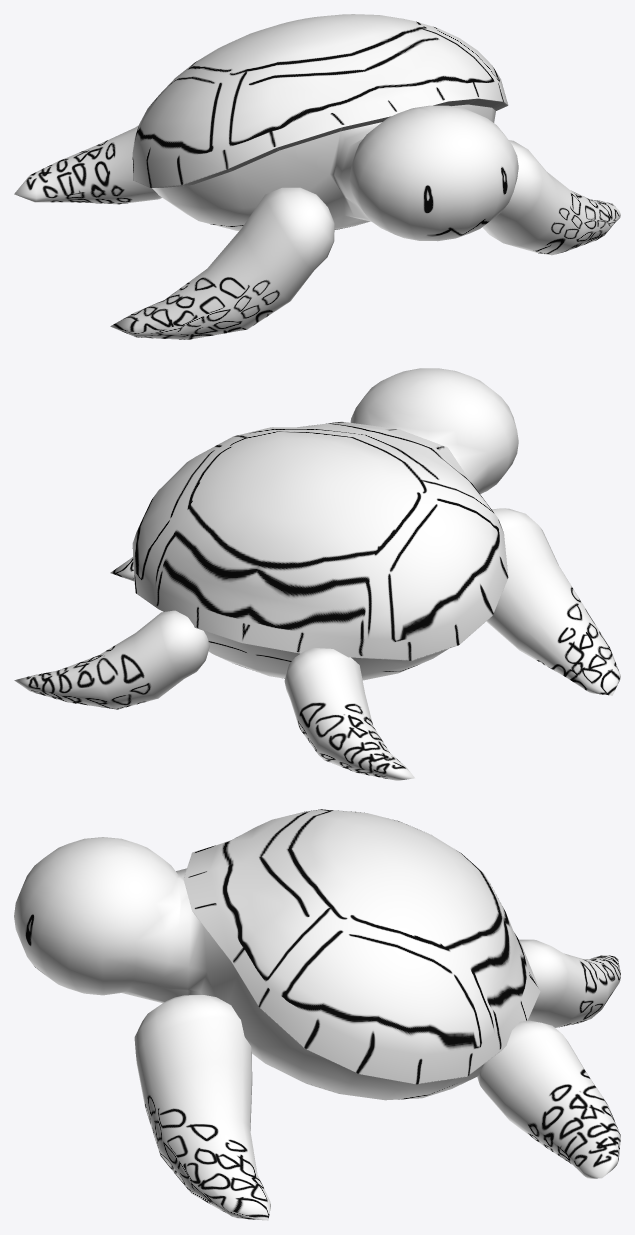
Rendered from Turtle Full.fbx.
3 views of the same model, one above another, from view 1: azimuth 30°, elevation 25°; view 2: azimuth 150°, elevation 25°; view 3: azimuth 270°, elevation 25° (orthographic). The views are drawn at different scales.
Visible parts, largest first — view 1: Body, R_Front_Flipper, L_Front_Flipper, R_Back_Flipper; view 2: Body, R_Front_Flipper, L_Back_Flipper, R_Back_Flipper; view 3: Body, L_Front_Flipper, L_Back_Flipper, R_Back_Flipper.
Boxes of the visible parts, x1,y1,x2,y2 form: Body: (132,14,518,241); R_Front_Flipper: (110,187,334,339); L_Front_Flipper: (482,140,620,255); R_Back_Flipper: (14,125,161,204); Body: (132,368,518,680); R_Front_Flipper: (486,508,620,695); L_Back_Flipper: (14,610,209,709); R_Back_Flipper: (284,648,414,780); Body: (14,809,540,1100); L_Front_Flipper: (134,995,270,1220); L_Back_Flipper: (477,1020,620,1178); R_Back_Flipper: (519,939,620,1027).
Size of the model in its own units: 195 by 80.36 by 179.
